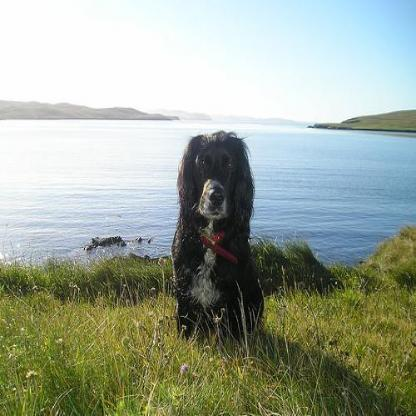cocker_spaniel: (169, 129, 262, 338)
